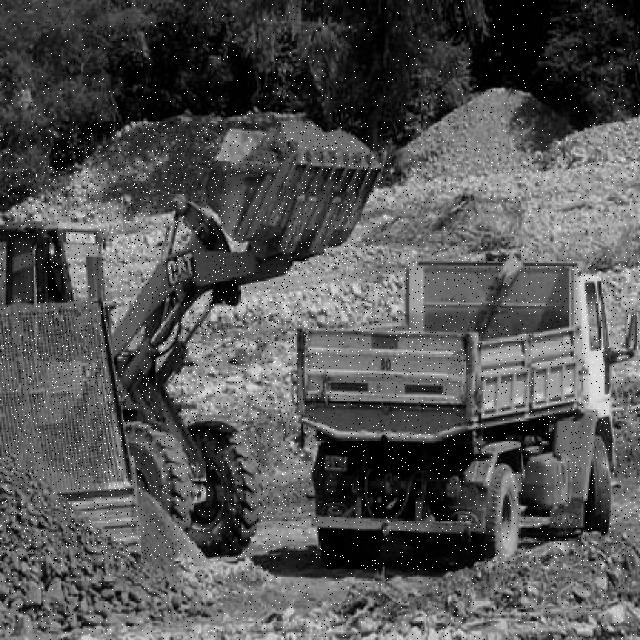Box Truck: (294, 254, 640, 570)
Construction Equipment: (0, 122, 388, 559)
